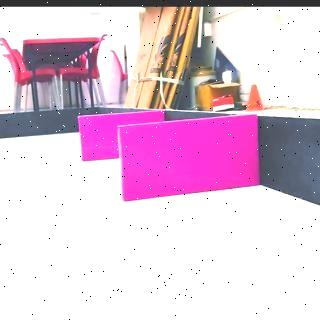xparking: (120, 128, 256, 198), (80, 115, 116, 158)
